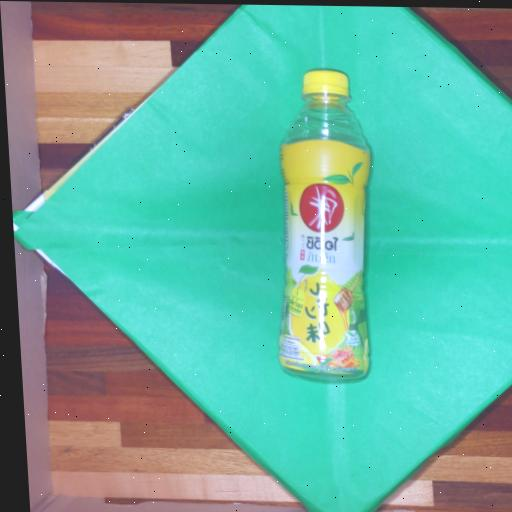bottle: (280, 70, 369, 378)
